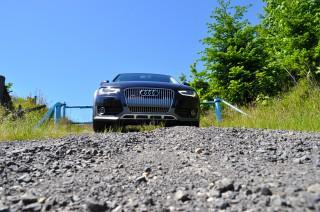Audi: (136, 87, 164, 100)
